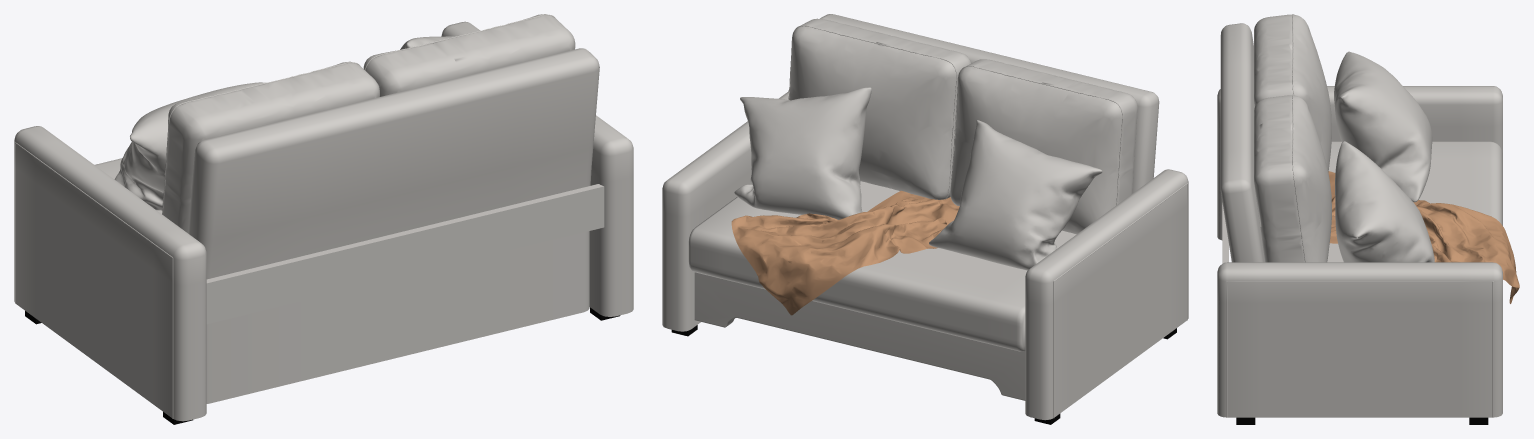
The model's file is Bekkseda_HP.fbx.
3 renders of one model, left to right at view 1: azimuth 30°, elevation 25°; view 2: azimuth 150°, elevation 25°; view 3: azimuth 270°, elevation 25°, orthographic. The views are drawn at different scales.
Parts seen in each view (by area): view 1: sofa, pillow; view 2: sofa, pillow, pled; view 3: sofa, pillow, pled, metal.
Boxes of the visible parts, x1,y1,x2,y2 form: sofa: (14, 14, 633, 421); pillow: (114, 35, 458, 210); sofa: (662, 14, 1188, 420); pillow: (734, 87, 1102, 270); pled: (731, 190, 959, 315); sofa: (1217, 14, 1502, 417); pillow: (1334, 51, 1434, 262); pled: (1328, 171, 1519, 303); metal: (1236, 417, 1488, 424).
Size of the model in its own units: 143 by 85.6 by 96.33.
